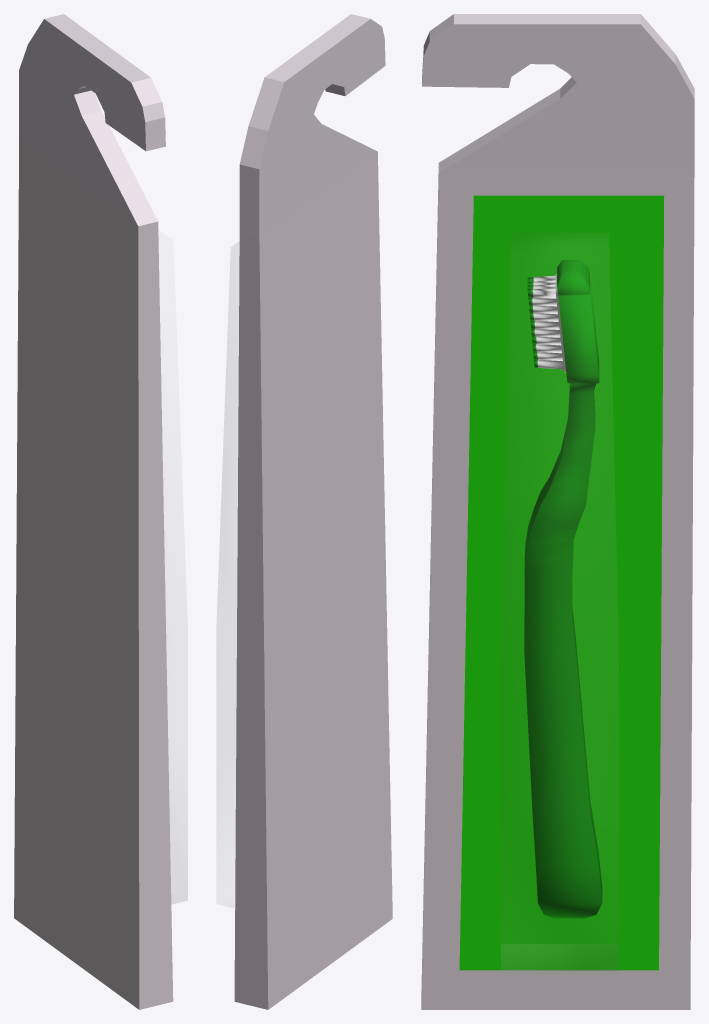
Rendered from cepilloVERDE2.fbx.
3 views of the same model, side by side, from view 1: azimuth 30°, elevation 25°; view 2: azimuth 150°, elevation 25°; view 3: azimuth 270°, elevation 25° (orthographic). The views are drawn at different scales.
Visible parts, largest first — view 1: tabla.002, envase.002; view 2: tabla.002, envase.002; view 3: tabla.002, cepillo.002, envase.002.
Boxes of the visible parts, x1=… form: tabla.002: x1=14, y1=14, x2=173, y2=1009; envase.002: x1=159, y1=230, x2=187, y2=903; tabla.002: x1=234, y1=14, x2=392, y2=1009; envase.002: x1=217, y1=242, x2=238, y2=907; tabla.002: x1=421, y1=14, x2=694, y2=1009; cepillo.002: x1=524, y1=260, x2=602, y2=918; envase.002: x1=501, y1=944, x2=618, y2=970.
Size of the model in its own units: 16.48 by 168 by 42.38.
